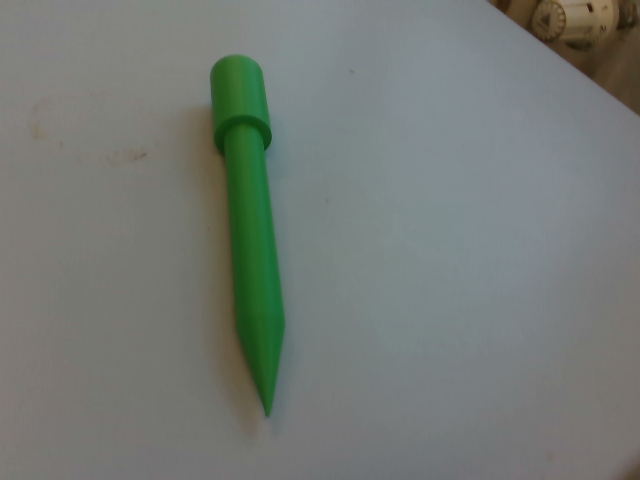Probe: (204, 50, 290, 426)
